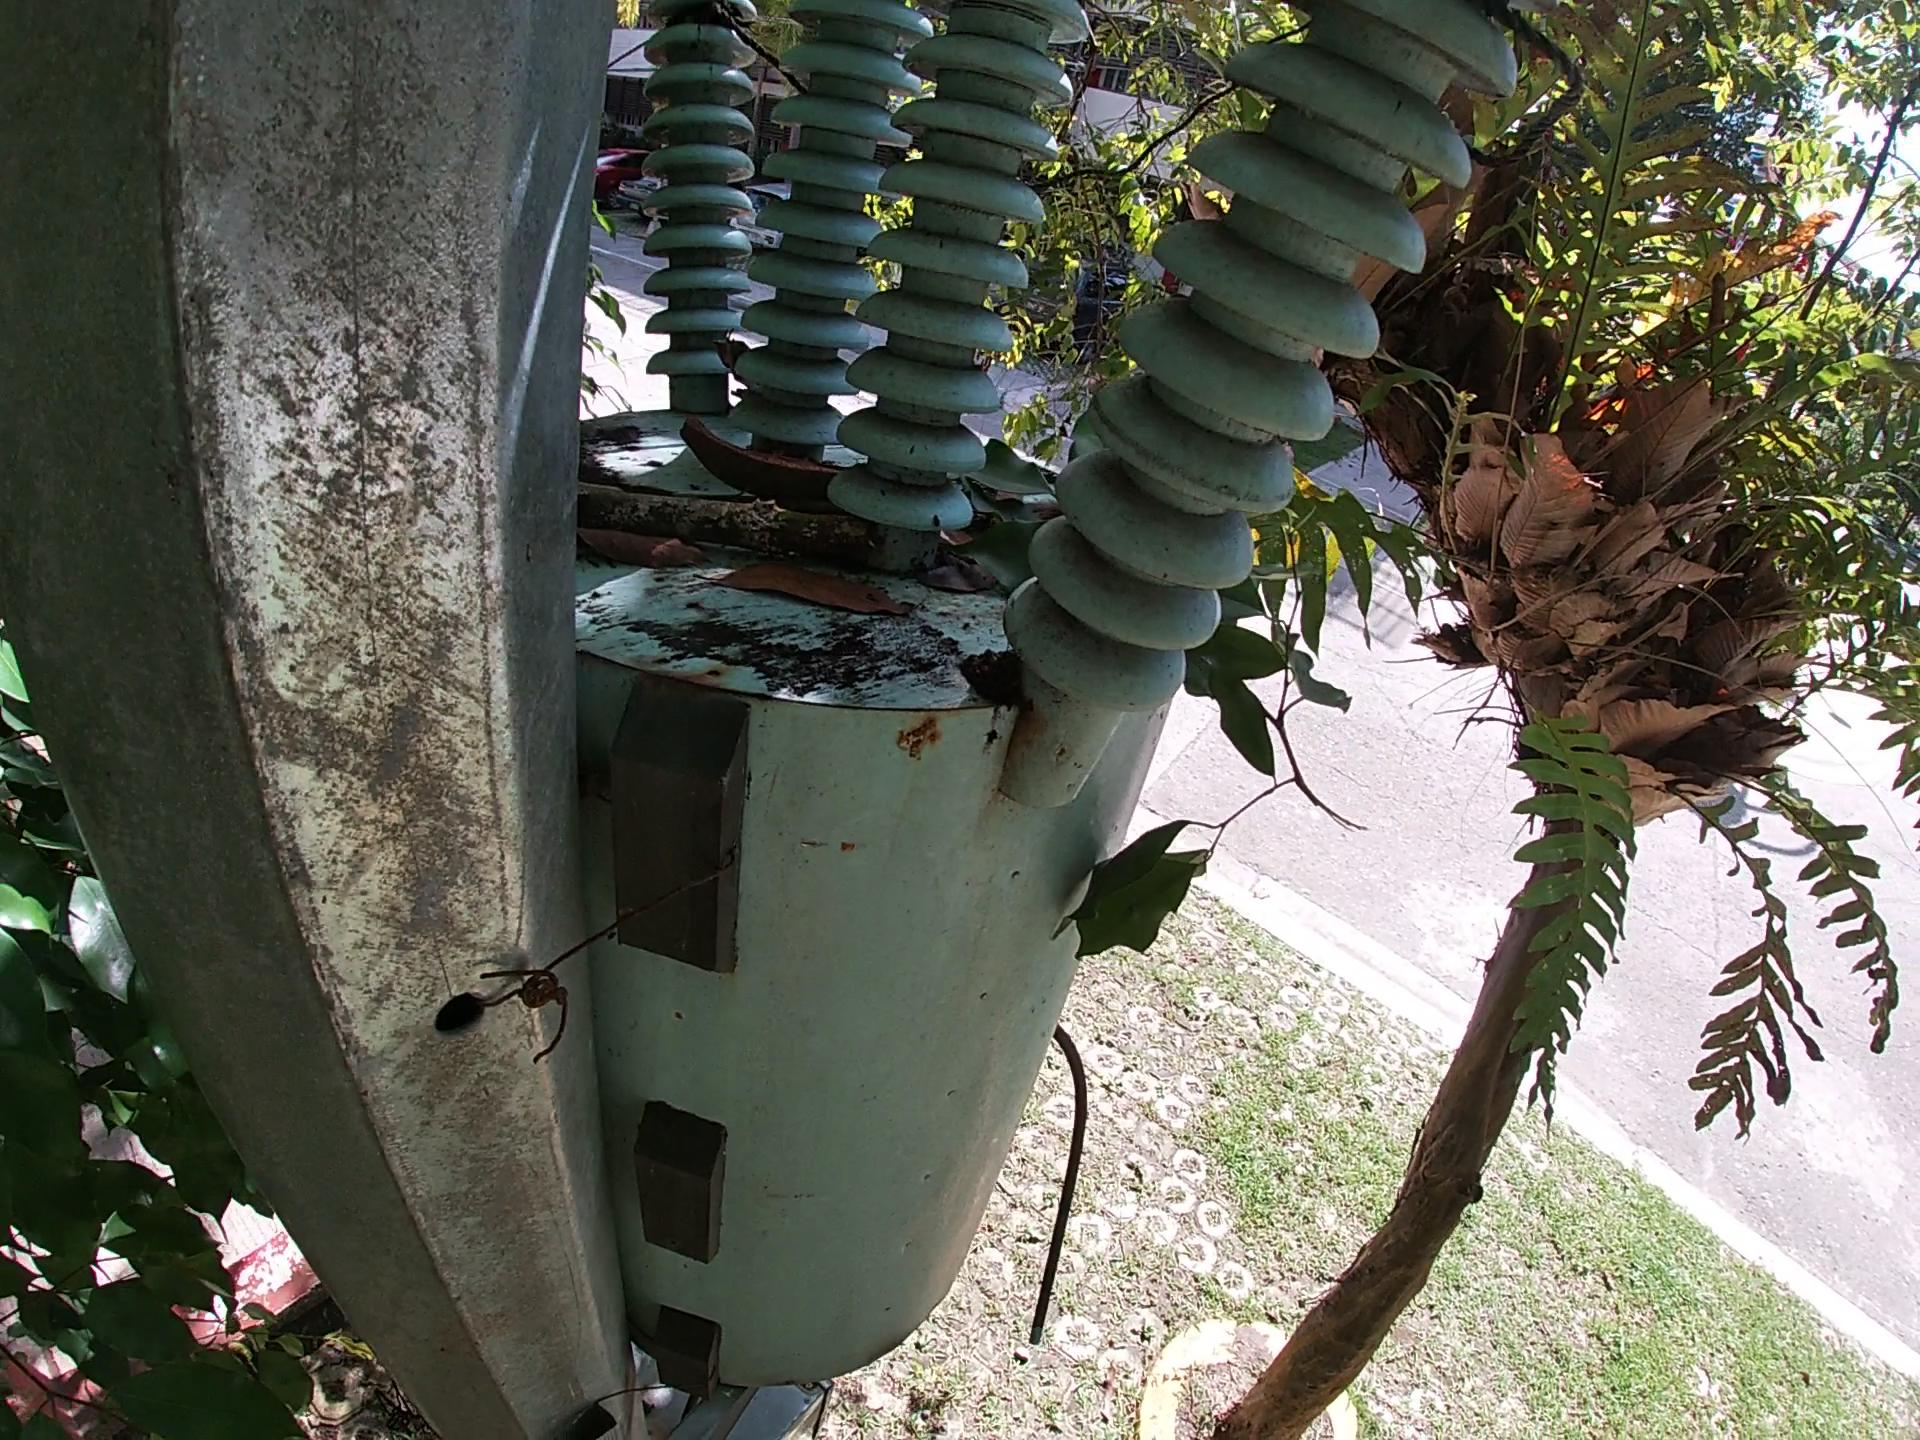branch with leaves: (1058, 473, 1364, 1010)
leaf: (937, 417, 1055, 593), (698, 561, 912, 632), (582, 520, 727, 579)
mahogany fruit: (676, 414, 862, 501)
tree branch: (576, 467, 822, 548)
